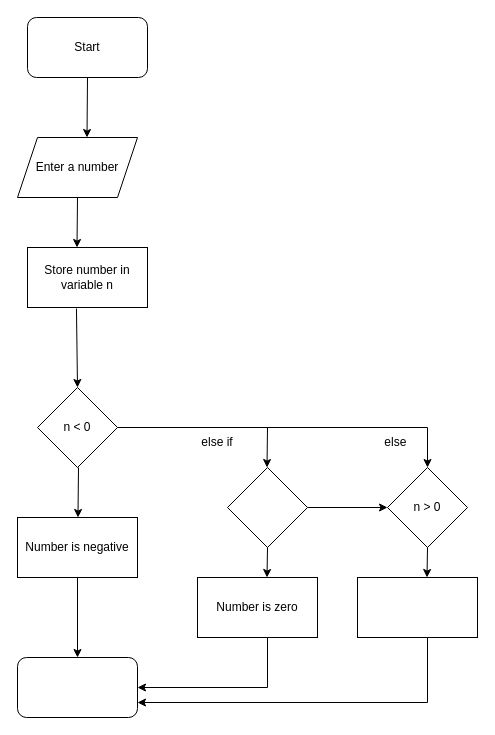
Some shapes in this 495 by 735 pixel diagram are drawn without their labels. Here are the shapes that lost their labels. From the top down, the centre of each, then its label:
the point at 267,507: n = 0
the point at 417,607: Number is positive
the point at 77,687: End
